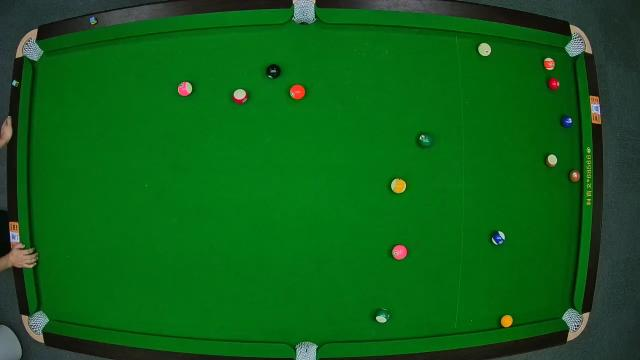bag1: (24, 40, 40, 62)
bag2: (292, 2, 316, 22)
bag3: (566, 34, 584, 56)
bag4: (27, 310, 49, 336)
bag5: (295, 342, 319, 360)
bag6: (562, 308, 584, 332)
ball0: (477, 42, 493, 58)
ball1: (500, 312, 512, 330)
ball10: (492, 229, 506, 246)
ball11: (232, 88, 250, 104)
ball12: (175, 82, 192, 96)
ball13: (543, 57, 557, 69)
ball14: (373, 308, 391, 324)
ball15: (544, 154, 558, 168)
ball2: (561, 113, 575, 129)
ball3: (546, 78, 560, 90)
ball4: (392, 243, 408, 260)
ball5: (288, 84, 306, 100)
ball6: (418, 130, 434, 150)
ball7: (568, 168, 582, 184)
ball8: (266, 64, 282, 80)
ball9: (389, 178, 406, 195)
